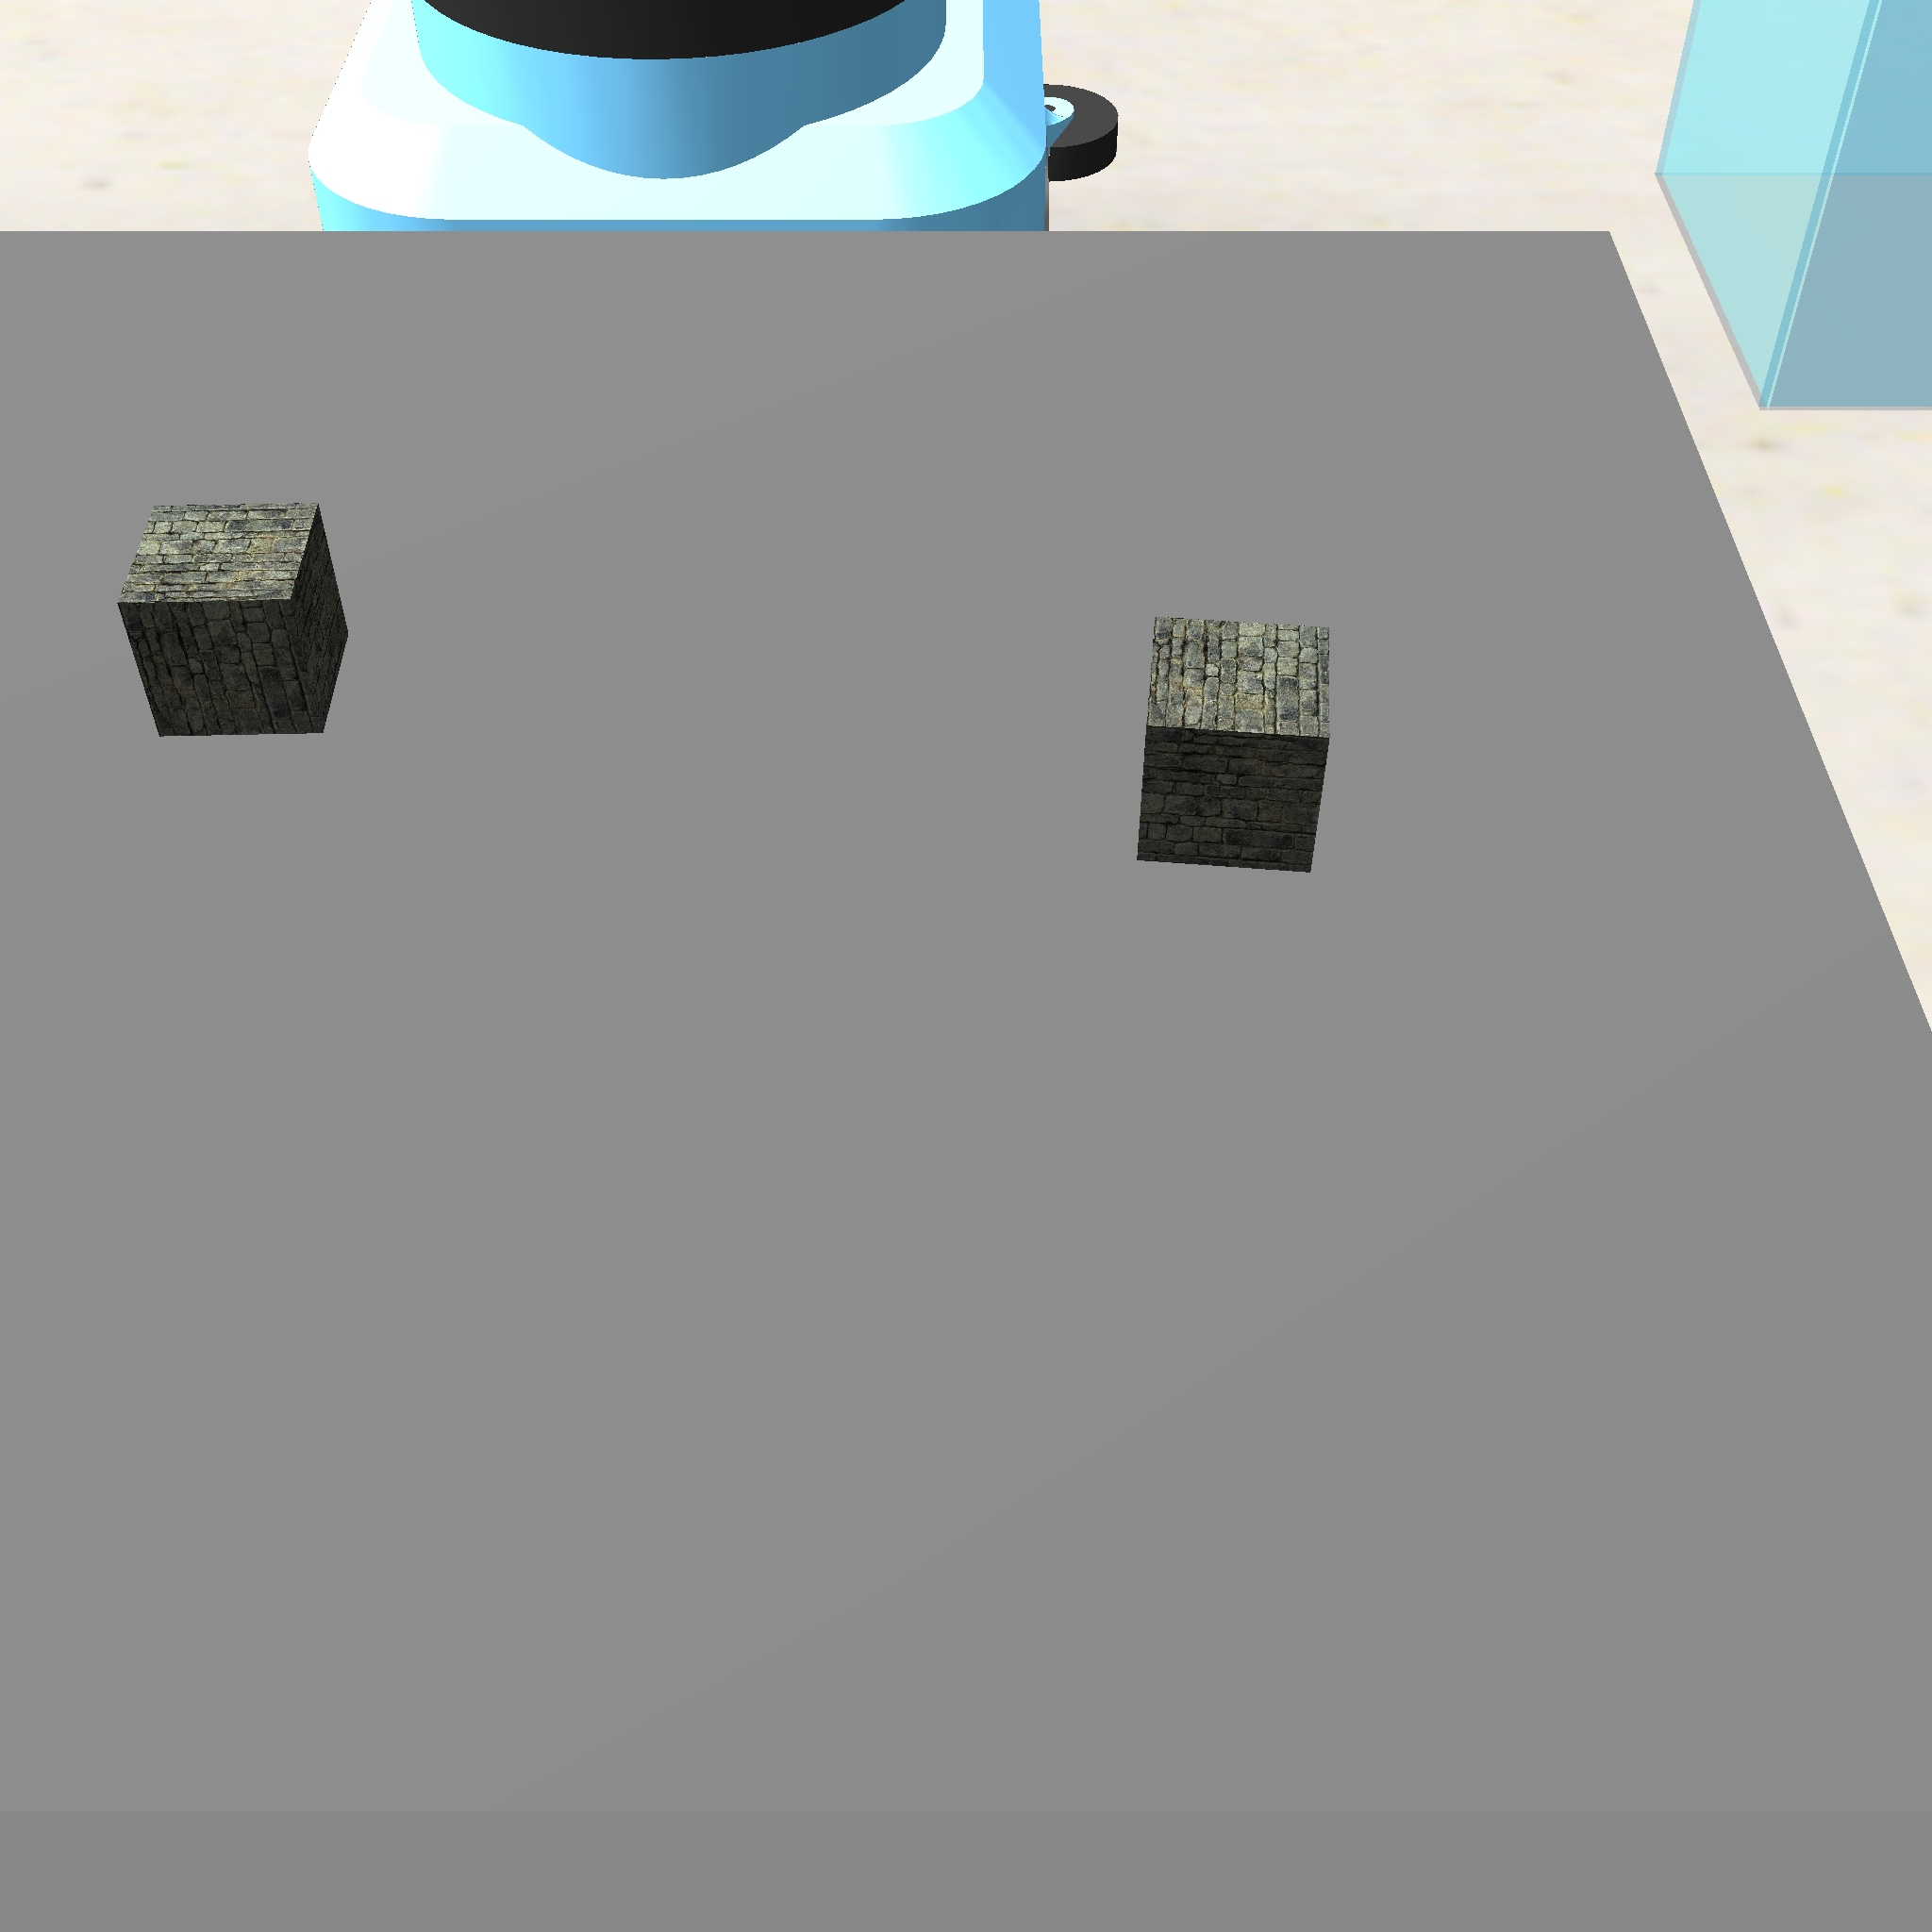cube: (110, 492, 356, 745), (1131, 607, 1341, 883)
